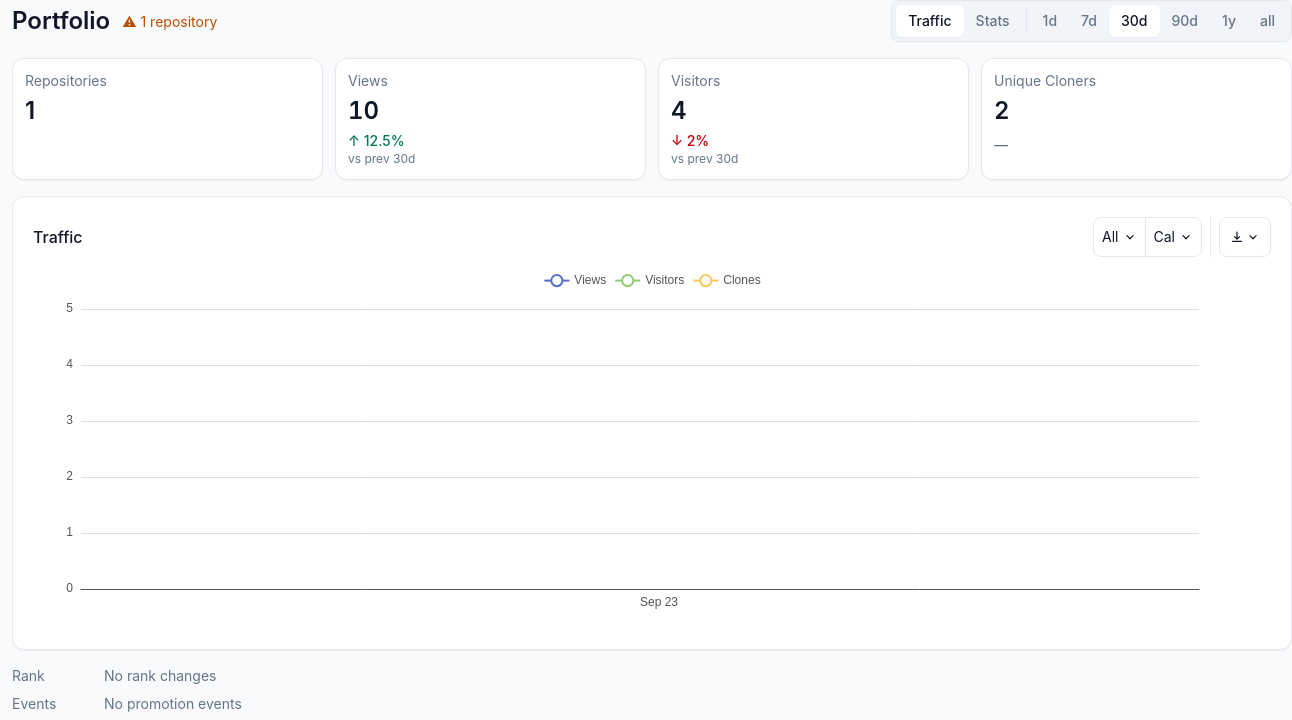
Test: coverage gaps › shows portfolio stats and keeps the period when the tab changes
The width and height of the screenshot is (1292, 720).
Expected: the heading "Traffic" is shown, [33,225,83,249]
Click the button "Stats": (993, 21) [964,5,1022,37]
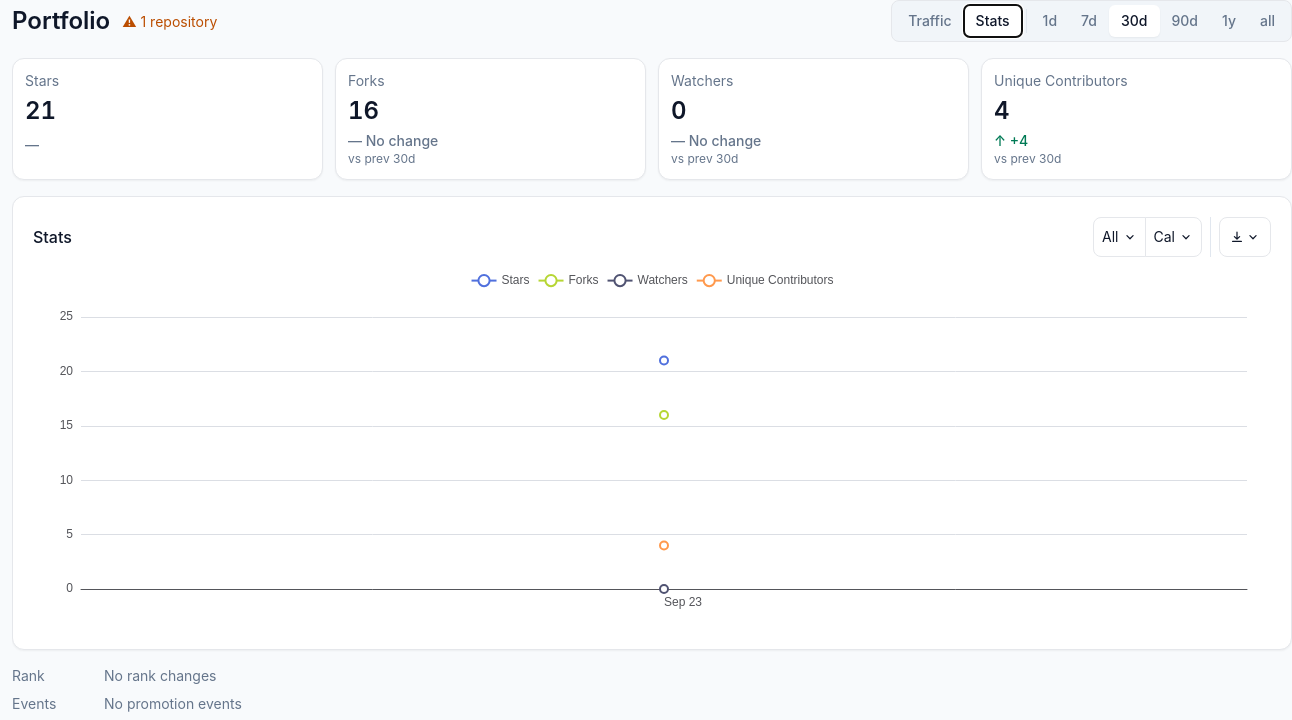
Expected: the text "Rank" is shown, [12,667,45,684]
Expected: the heading "Stats" is shown, [33,225,72,249]
Expected: the 1st text "— No change" is shown, [348,132,438,149]
Click the button "7d": (1089, 21) [1069,5,1109,37]
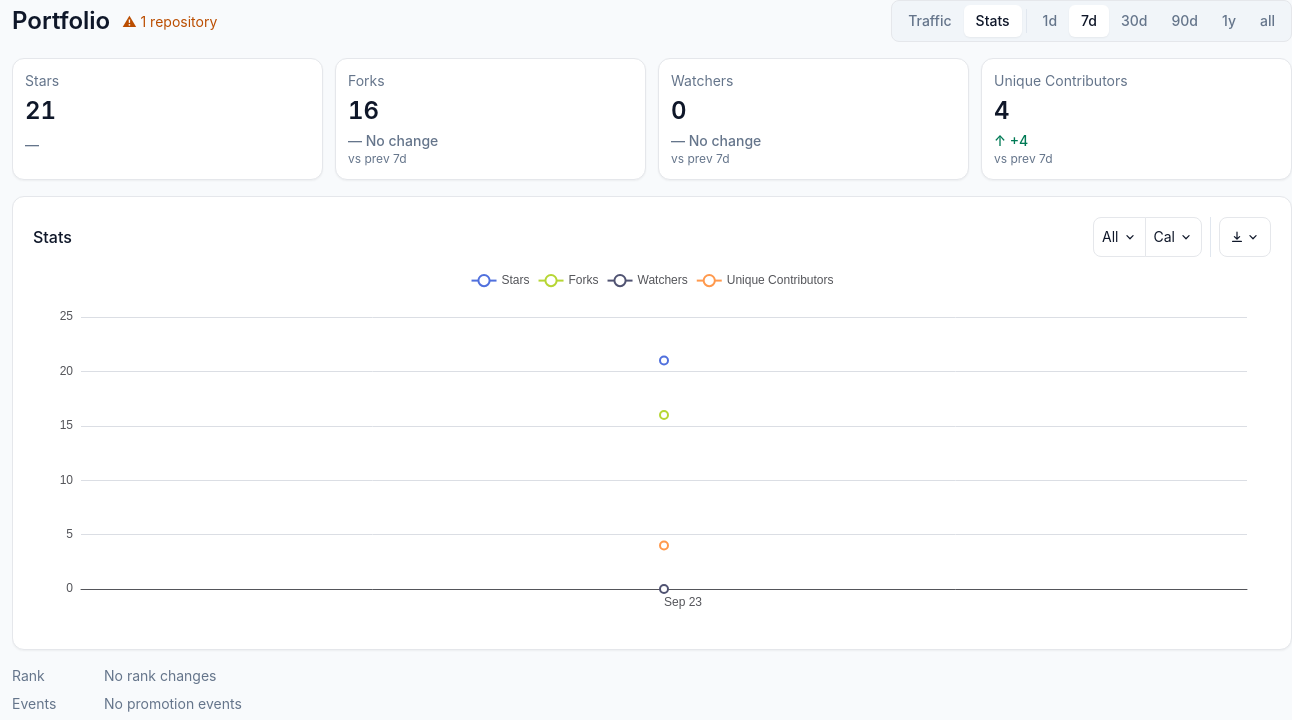
Expected: the heading "Stats" is shown, [33,225,72,249]
Click the button "Traffic": (930, 21) [896,5,964,37]
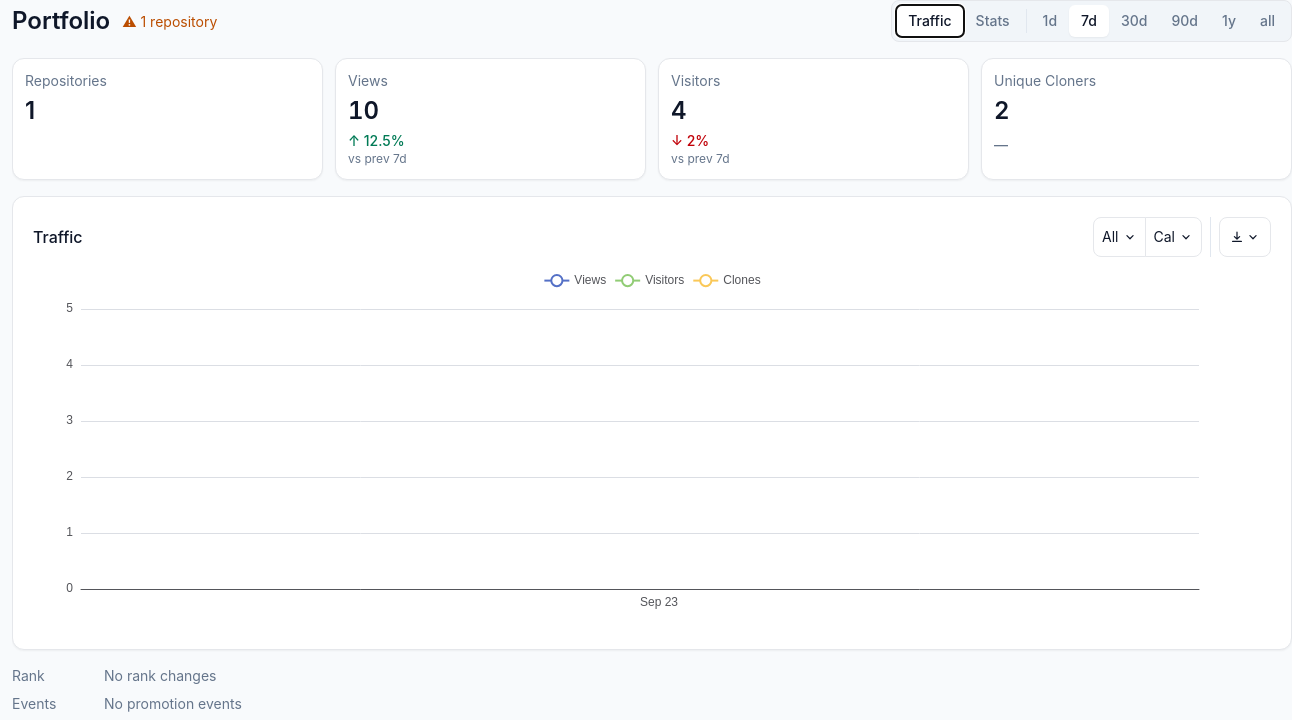
Expected: the heading "Traffic" is shown, [33,225,83,249]
